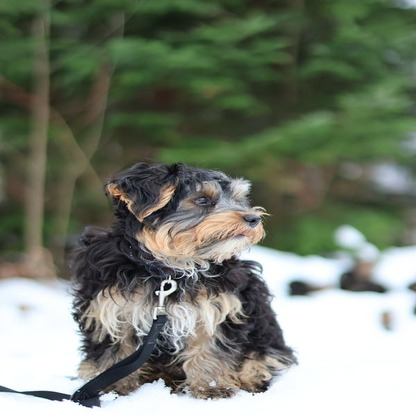yorkshire: (69, 159, 298, 398)
